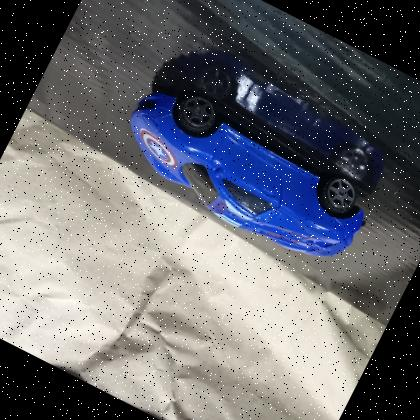Car: (130, 91, 366, 257)
